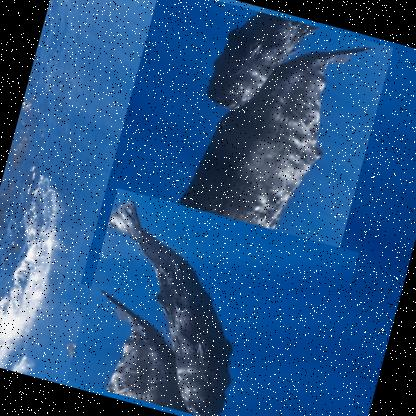sperm_whale: (79, 0, 394, 348), (64, 187, 359, 415)
